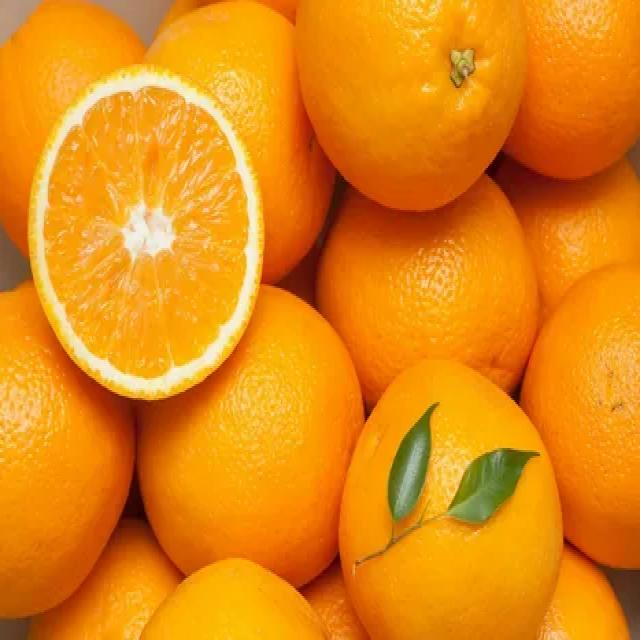orange: (22, 67, 266, 404), (333, 356, 569, 640)
